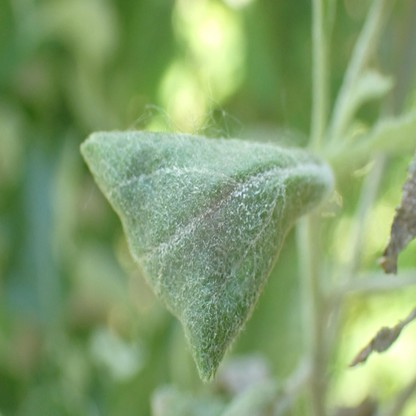powder: (79, 131, 334, 386)
